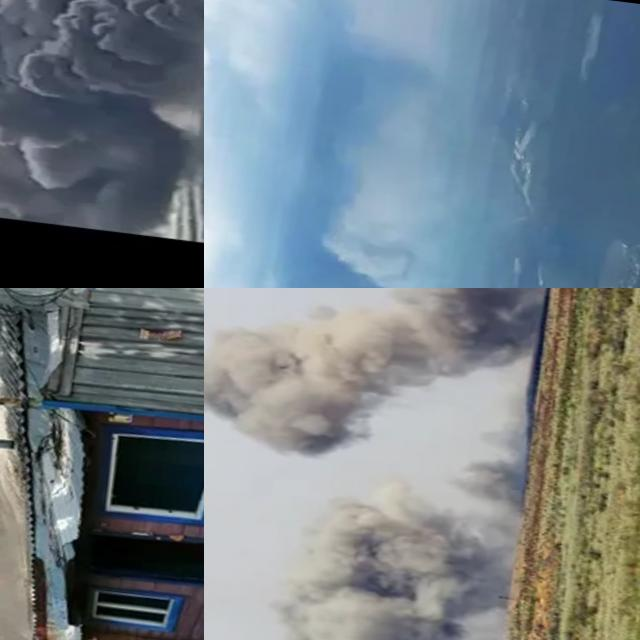smoke: (204, 288, 552, 480), (274, 437, 529, 640), (0, 0, 204, 240), (239, 237, 593, 288), (0, 392, 63, 640)
